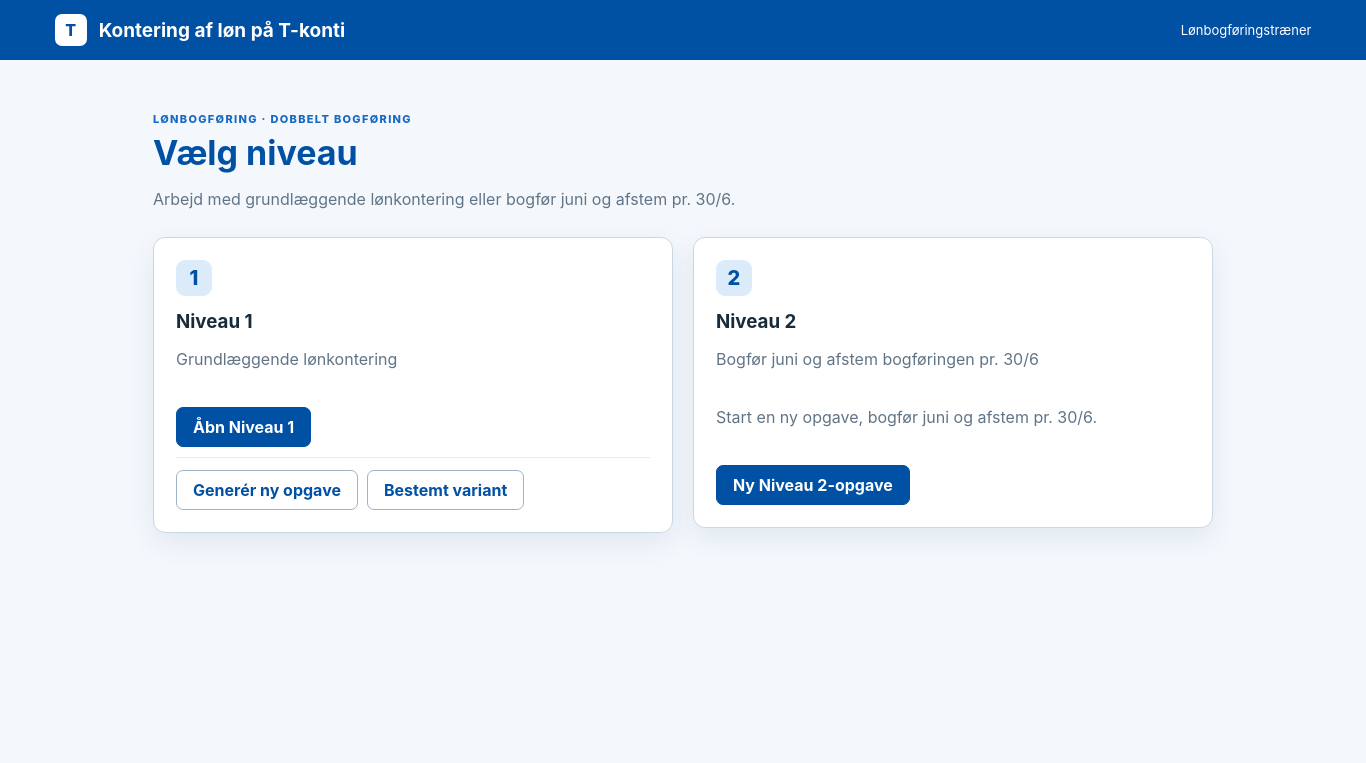
it: Hovedmenu og exercise shell › starter bestemt variant og vender tabsfrit til hovedmenu
Click the button "Bestemt variant" at [446, 490], box x1=367 y1=470 x2=524 y2=510
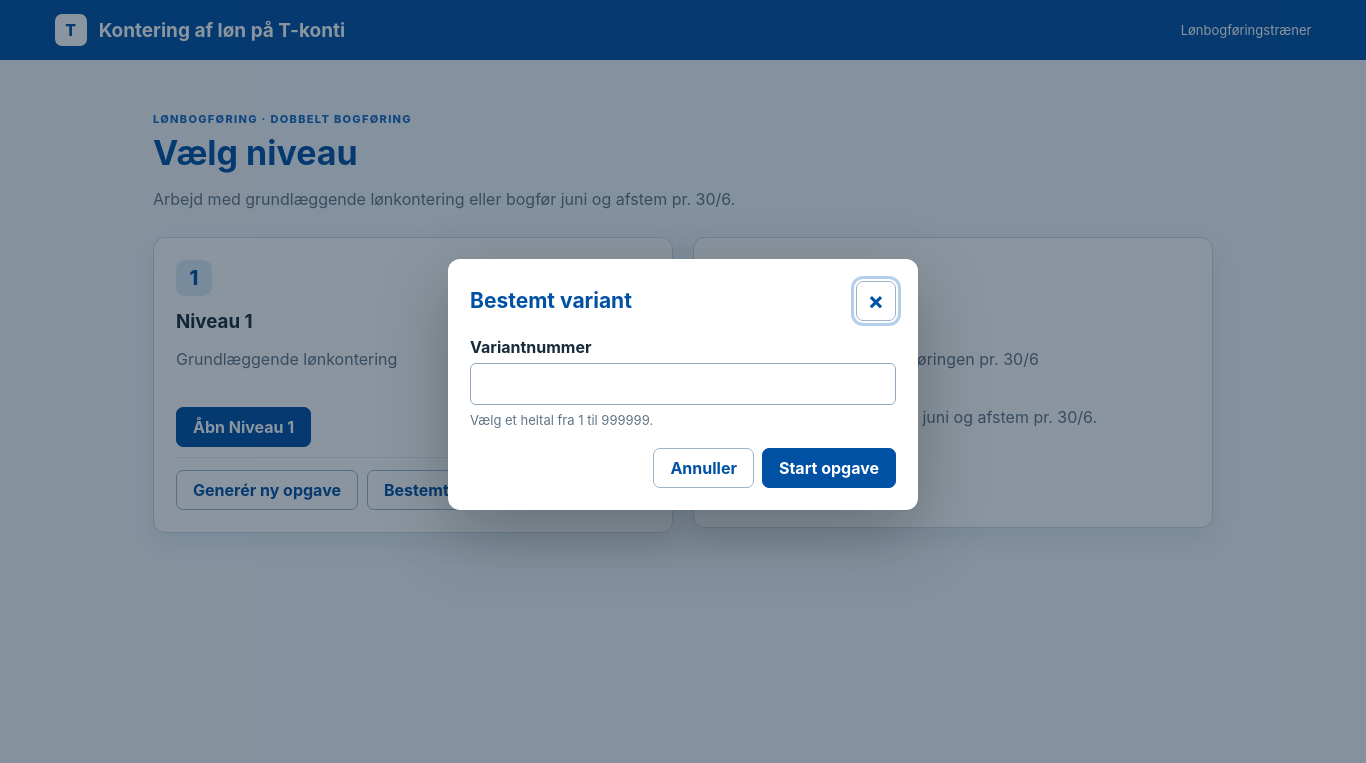
Type "42" into the field labelled "Variantnummer" at [683, 384], box x1=470 y1=362 x2=896 y2=404
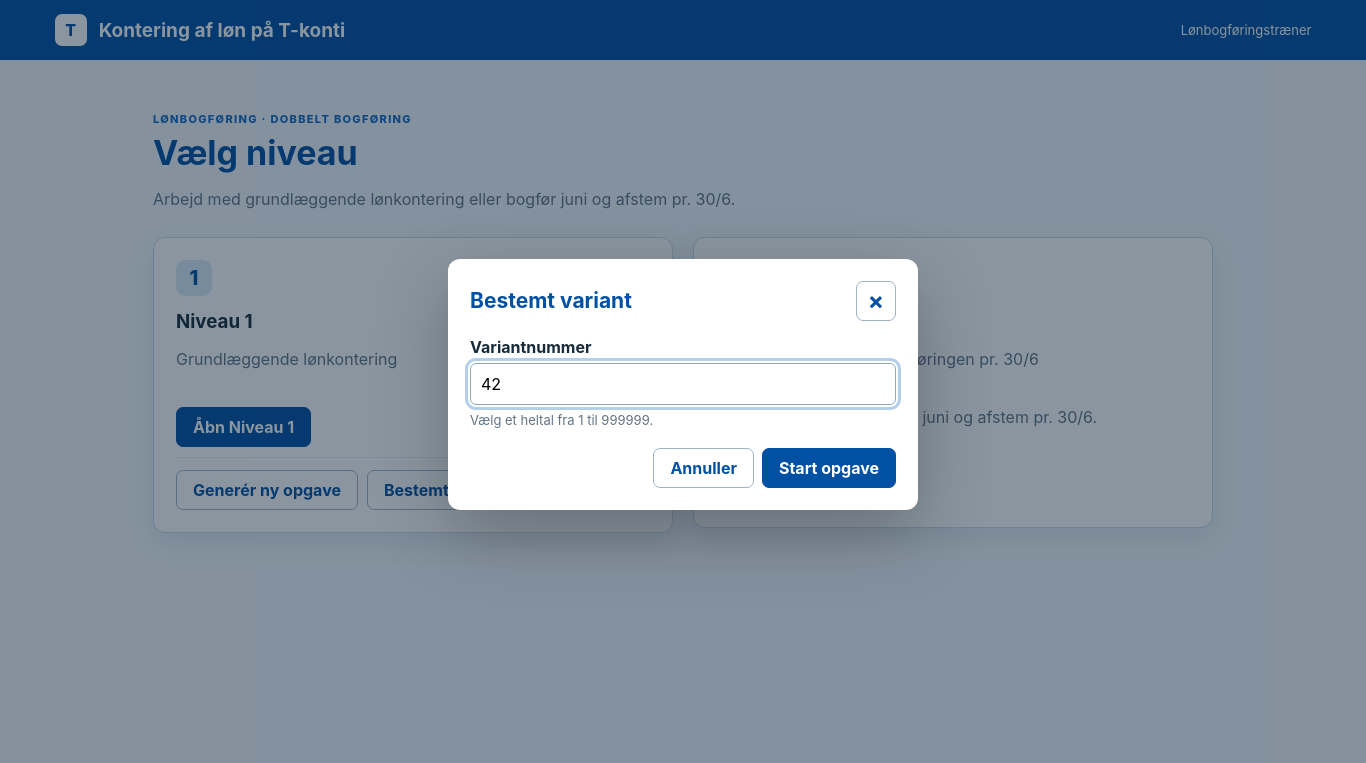
Click the button "Start opgave" at [829, 468], box x1=762 y1=448 x2=896 y2=488
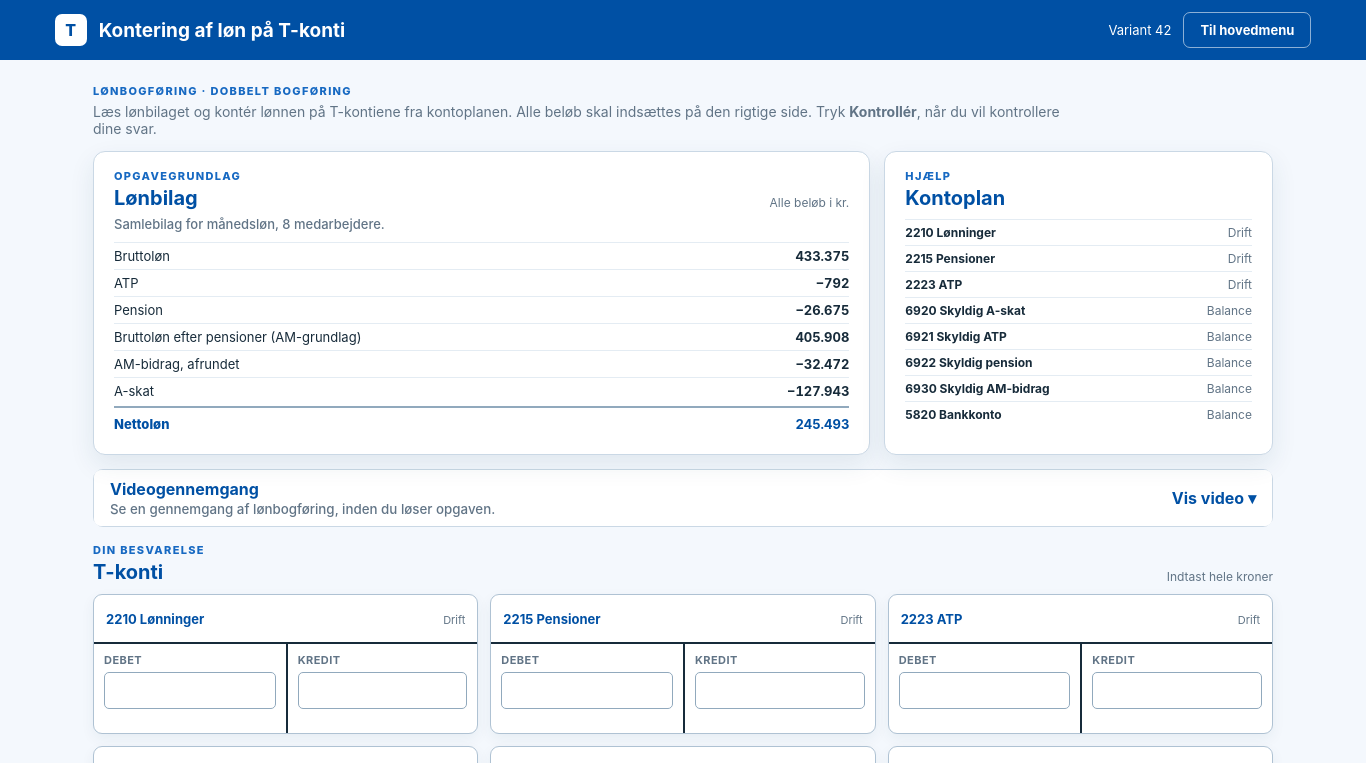
Expected: the text "Variant 42" is shown, x1=1108 y1=22 x2=1171 y2=38
Expected: the heading named "Samlebilag for 8 medarbejdere" is shown, x1=114 y1=216 x2=385 y2=232
Click the button "Til hovedmenu" at [1247, 30], box x1=1183 y1=12 x2=1311 y2=48
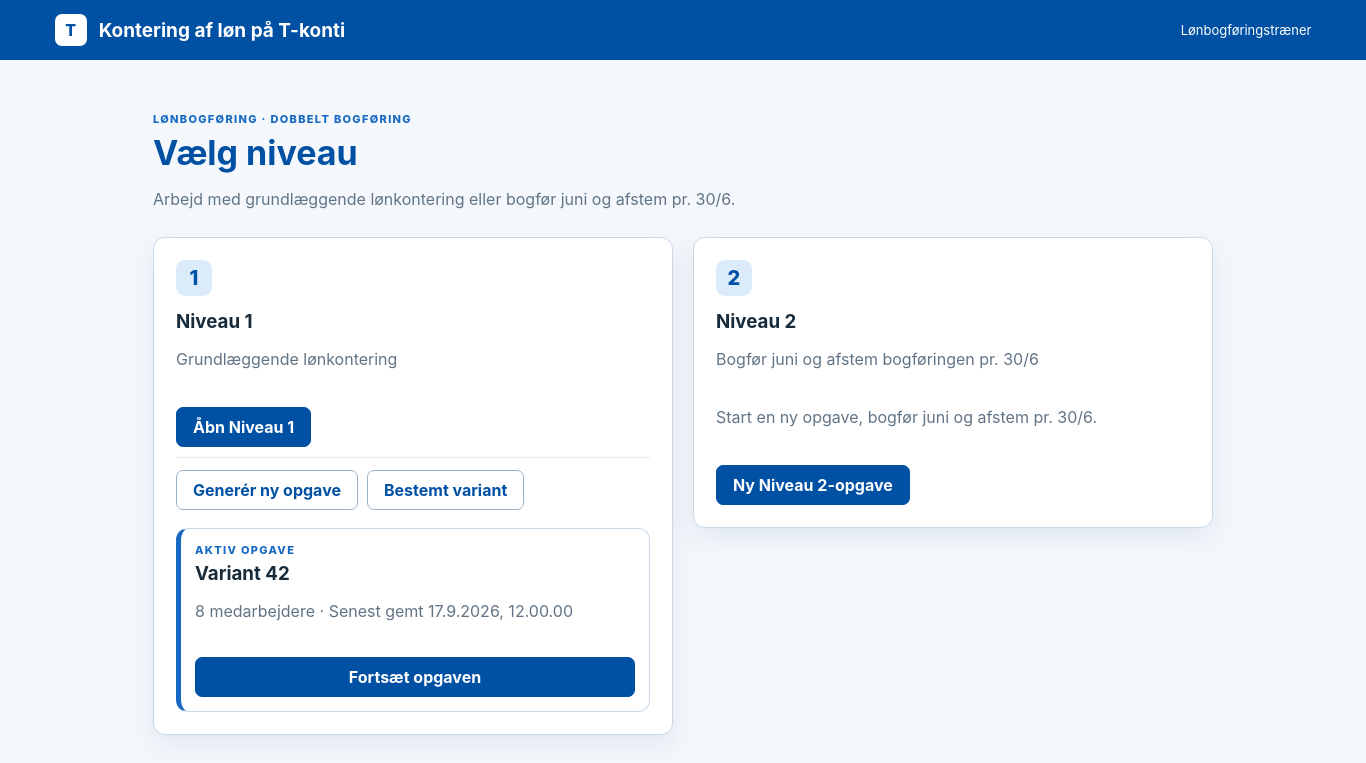
Expected: the button "Fortsæt opgaven" is shown, x1=195 y1=657 x2=635 y2=697
